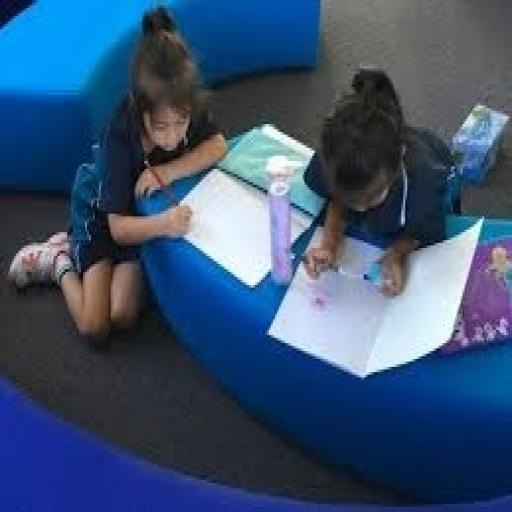sitting: (6, 3, 229, 343), (300, 64, 460, 298)
